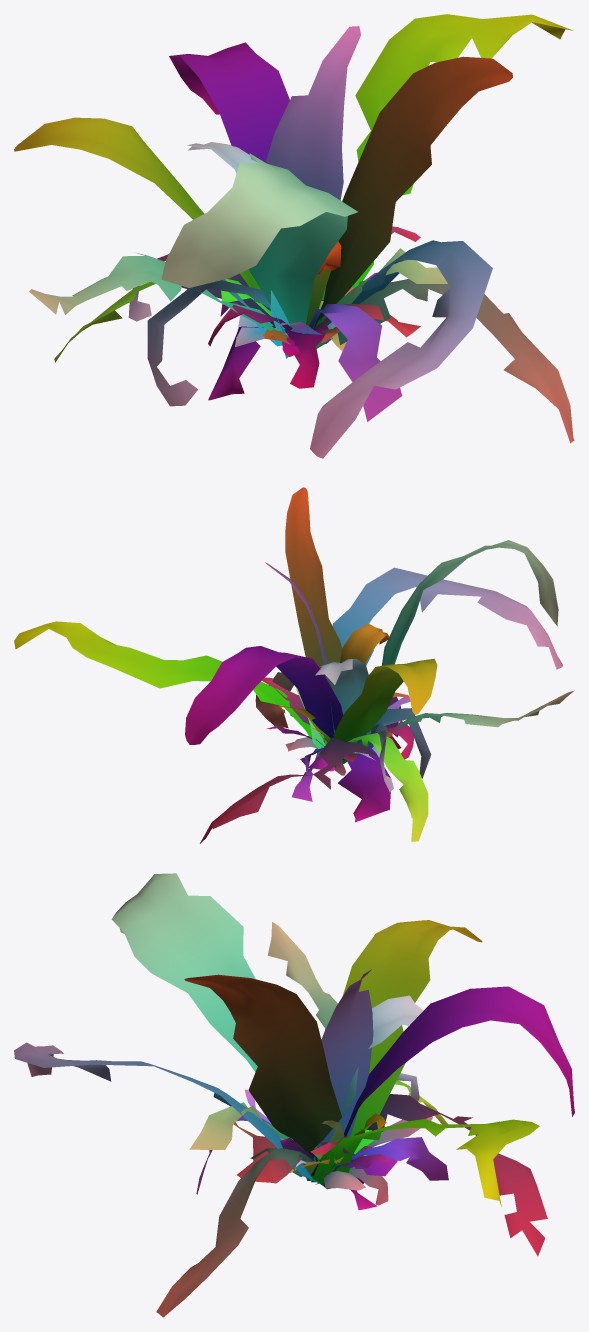
File: Fern_sbslY_High_sbslY_VarC_LOD0.fbx
3 renders of one model, top to bottom at view 1: azimuth 30°, elevation 25°; view 2: azimuth 150°, elevation 25°; view 3: azimuth 270°, elevation 25°, orthographic. The views are drawn at different scales.
Visible parts, largest first — view 1: _134a_VarC_LOD0; view 2: _134a_VarC_LOD0; view 3: _134a_VarC_LOD0.
Boxes of the visible parts, x1,y1,x2,y2 form: _134a_VarC_LOD0: [14, 14, 574, 458]; _134a_VarC_LOD0: [14, 487, 574, 843]; _134a_VarC_LOD0: [14, 873, 574, 1317].
Bounding box in the file's own units: 164 × 86.92 × 137.
